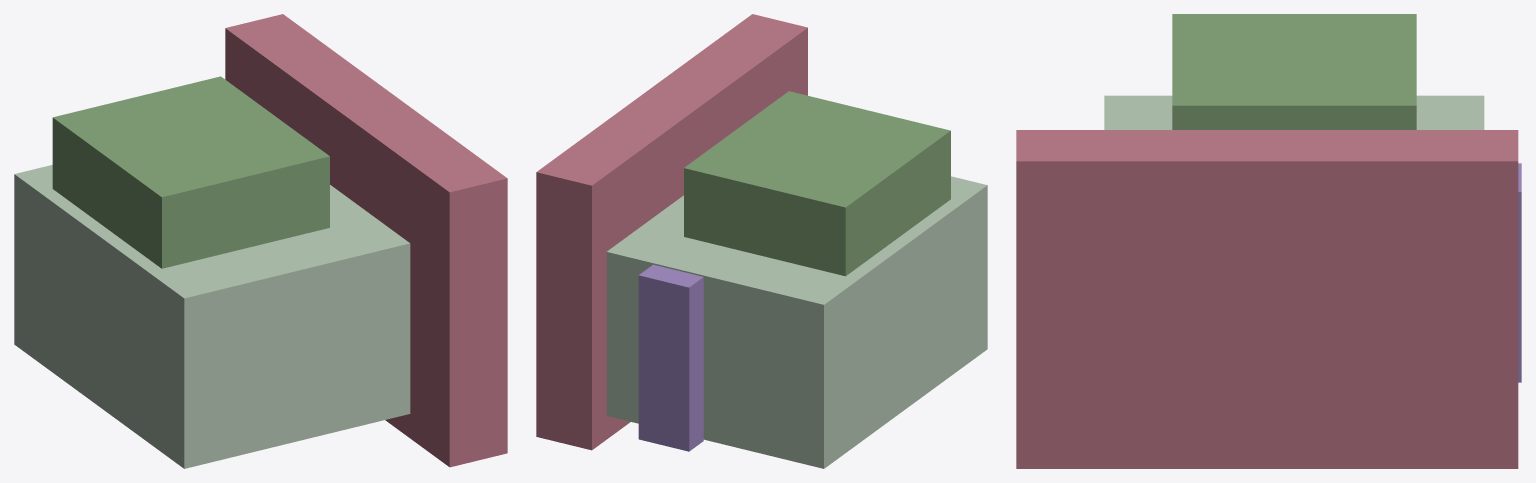
The picture shows the model from 3 angles, left to right: view 1: azimuth 30°, elevation 25°; view 2: azimuth 150°, elevation 25°; view 3: azimuth 270°, elevation 25°; orthographic projection. The views are drawn at different scales.
Parts seen in each view (by area): view 1: world; view 2: world; view 3: world.
Part boxes in pixels (bbox=[...]): world: bbox=[14, 14, 507, 468]; world: bbox=[536, 14, 987, 468]; world: bbox=[1016, 14, 1521, 468].
Bounding box in the file's own units: 5.4 × 5 × 7.45.
